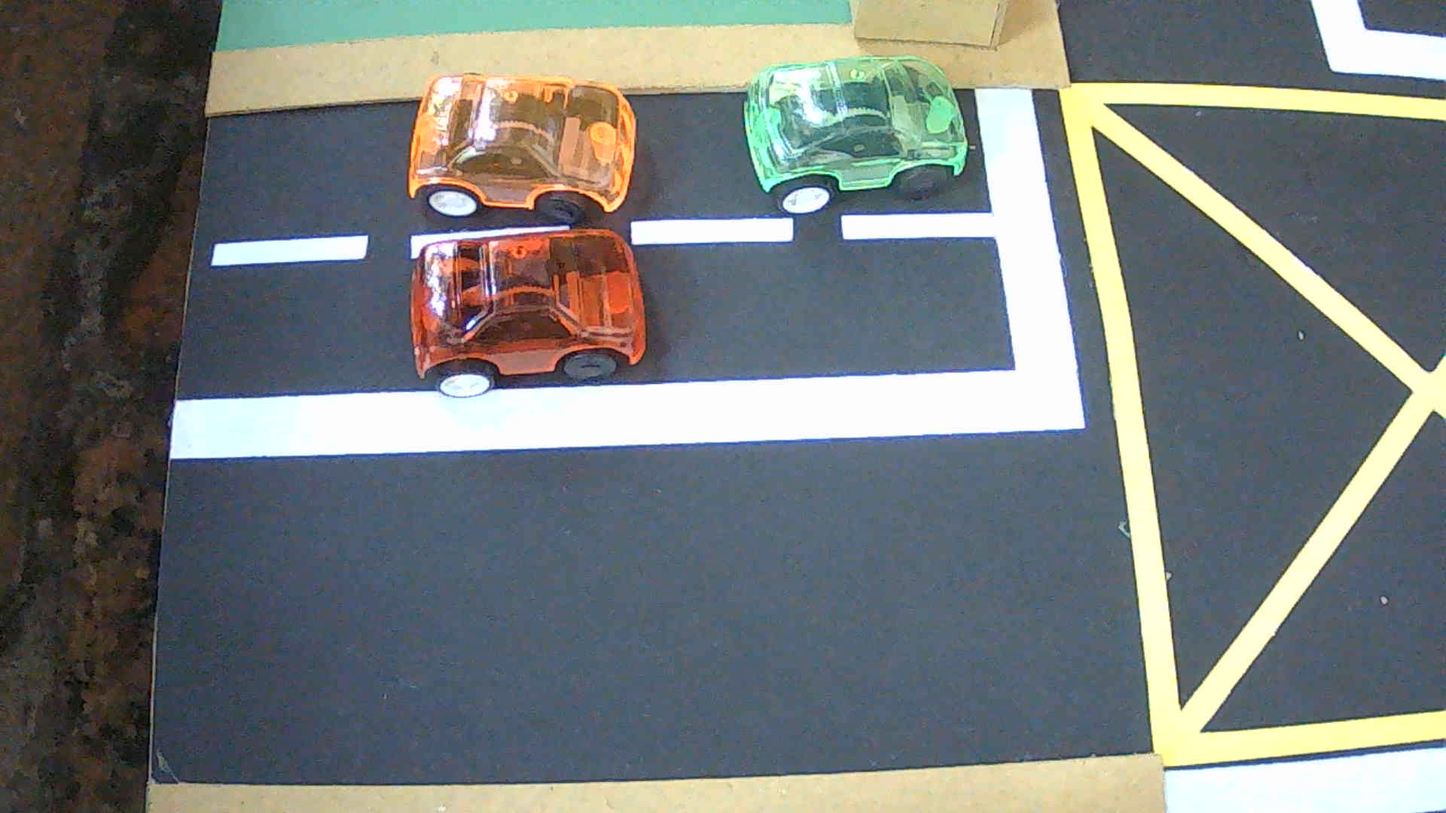Mobil hijau: (743, 56, 968, 214)
Mobil merah: (410, 229, 645, 397)
Mobil orange: (408, 73, 636, 224)
